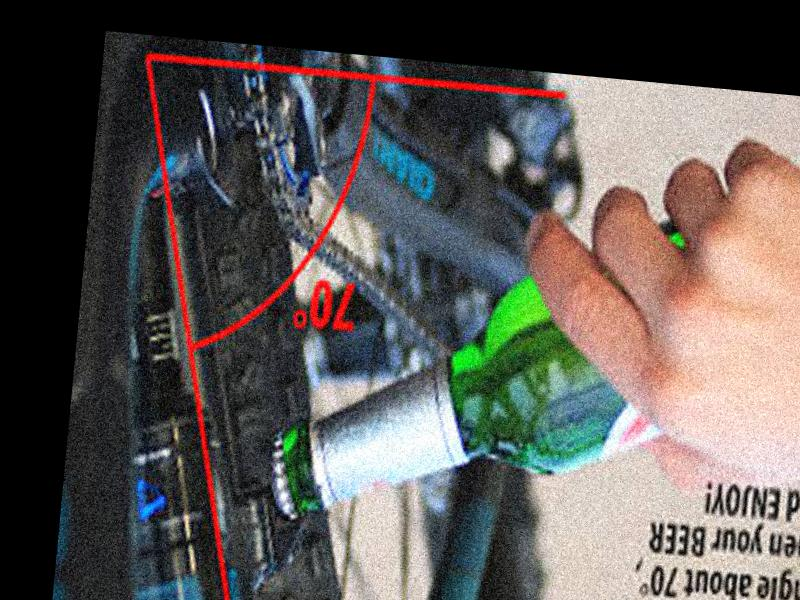Beer: (258, 102, 800, 568)
